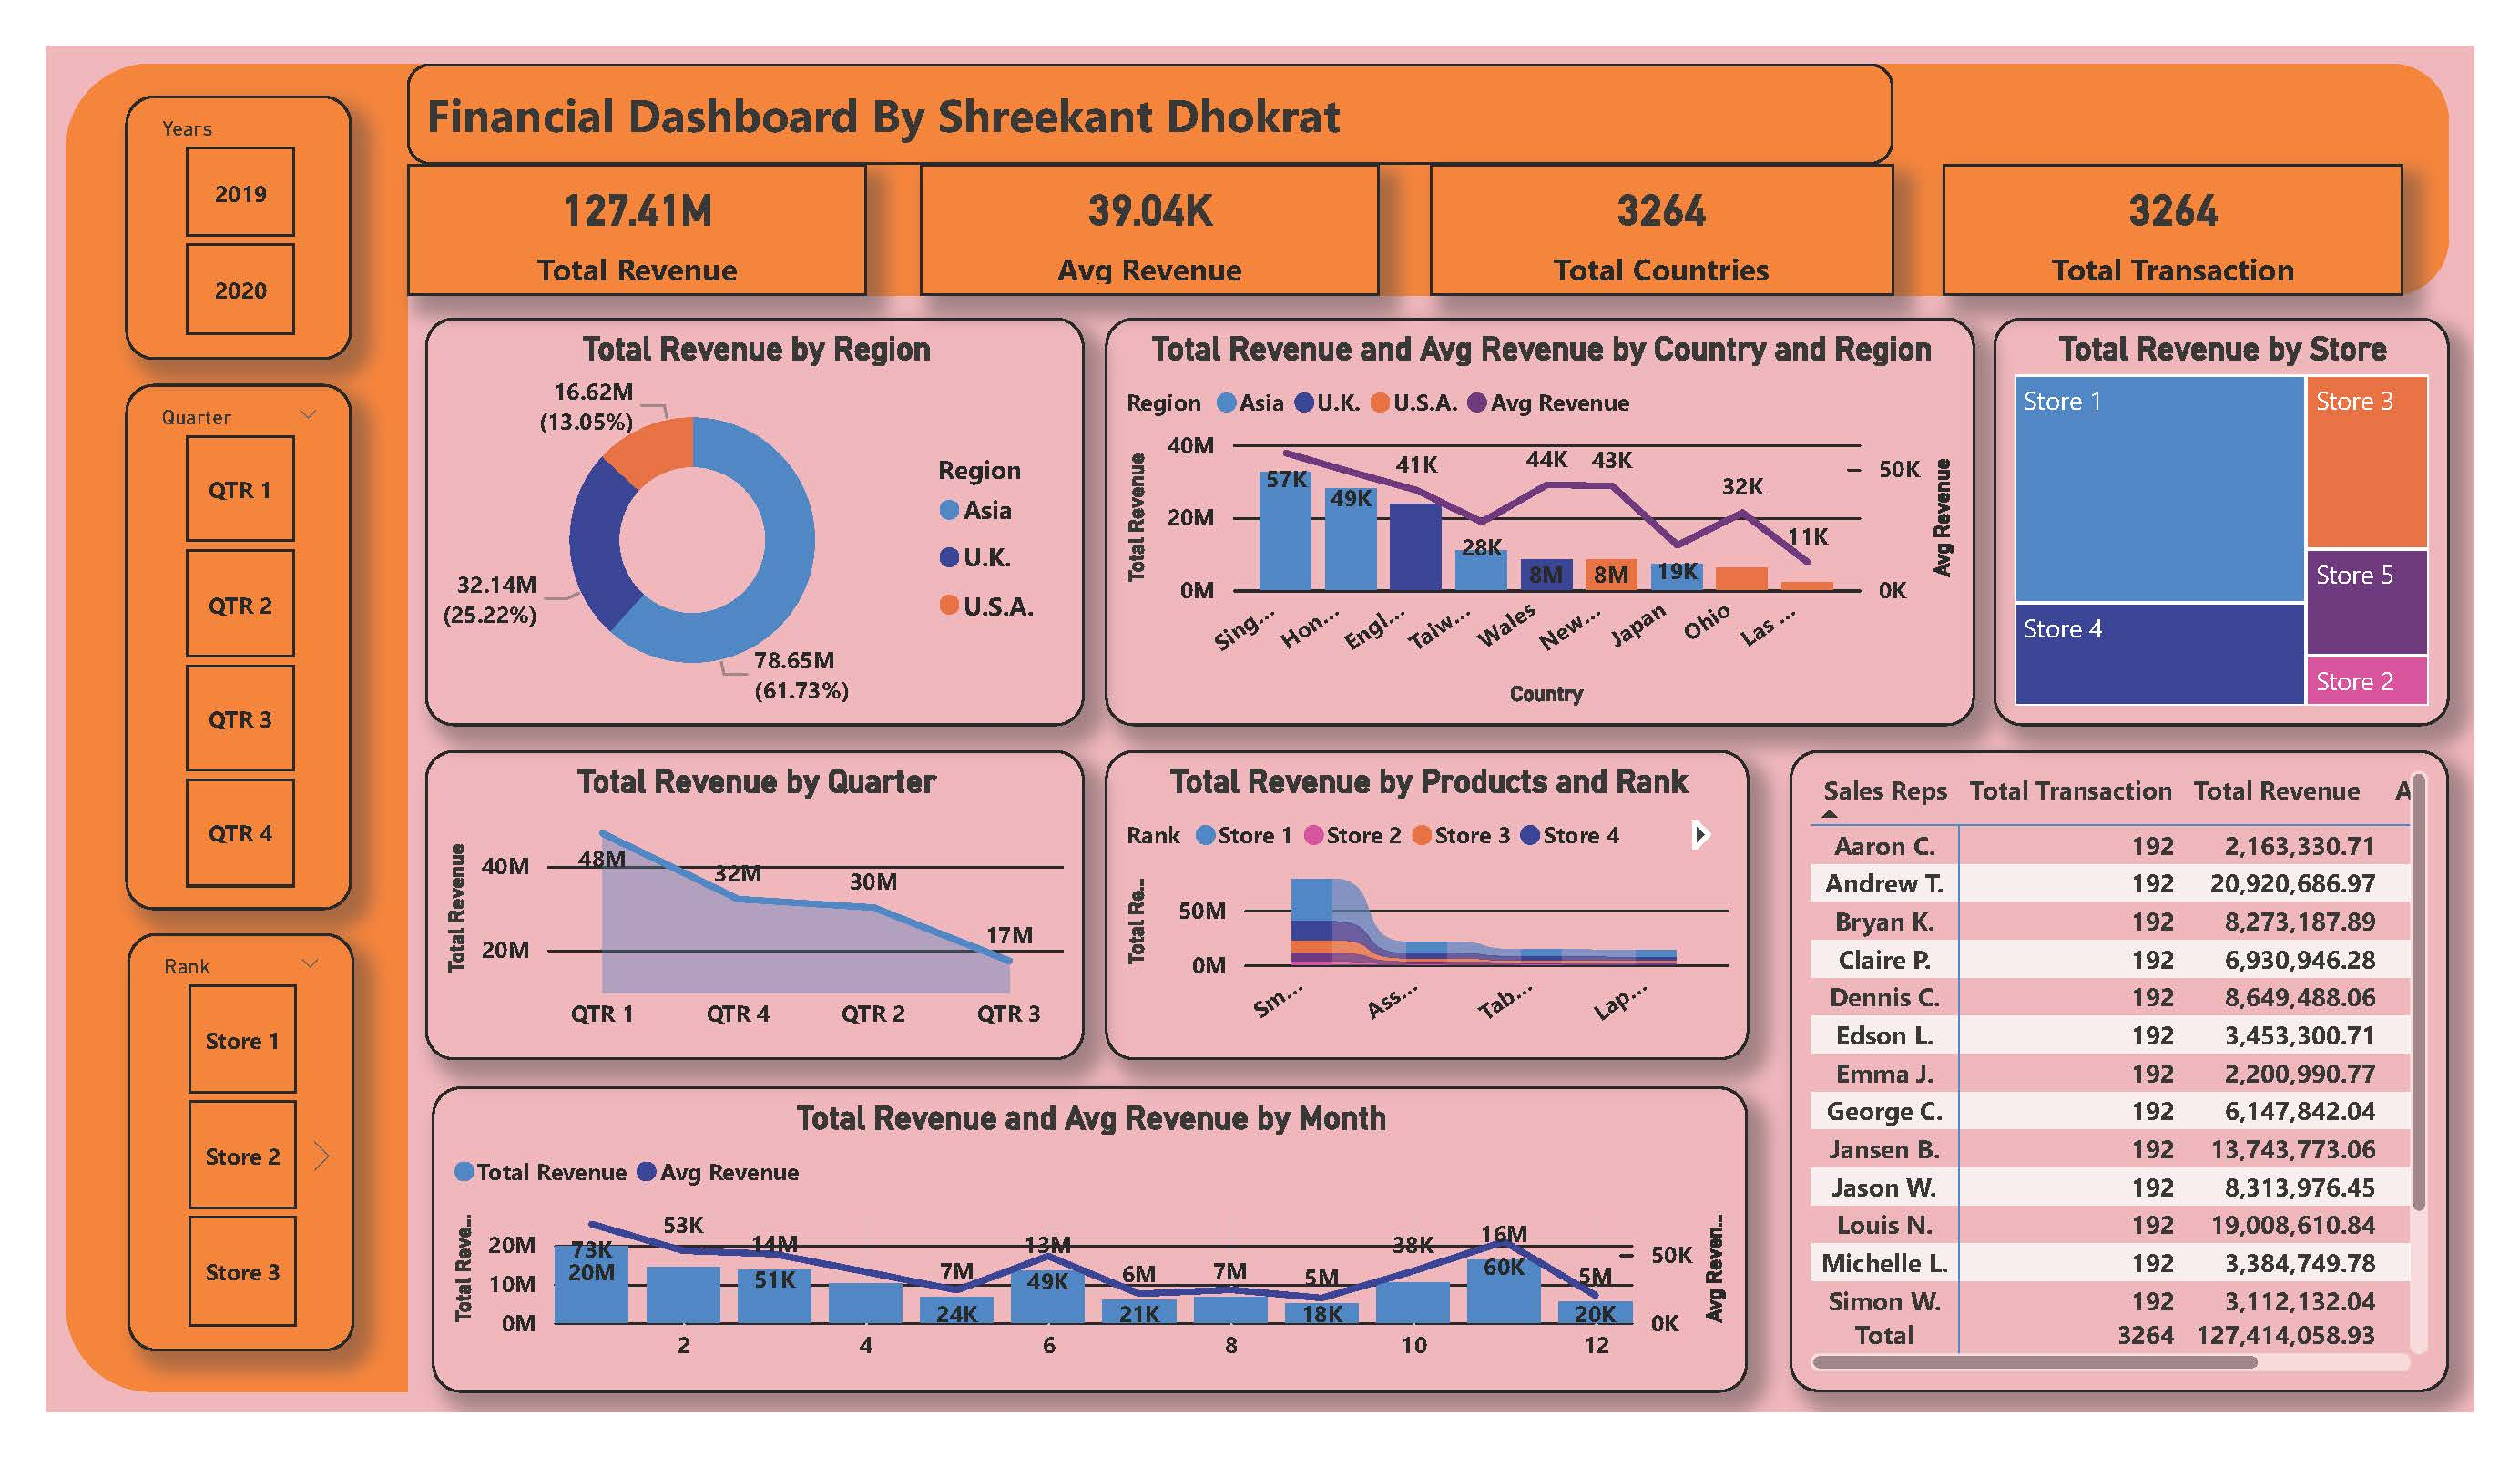

The page's visual inventory and layout, read from the dashboard file:
{"tool":"powerbi","page":{"name":"Page 1","canvas":[1280,720],"ordinal":0},"visuals":[{"type":"shape","box":[11,9.6,179.8,699.8],"z":0},{"type":"shape","box":[190.7,9.6,1075.8,122.1],"z":1000},{"type":"card","fields":{"Values":["Measures (2).Total Revenue"]},"box":[190.6,62.7,242.5,68.8],"z":2000},{"type":"card","fields":{"Values":["Measures (2).Avg Revenue"]},"box":[460.9,62.7,242.5,68.8],"z":3000},{"type":"card","fields":{"Values":["Measures (2).Total Countries"]},"box":[729.9,62.7,243.7,68.8],"z":4000},{"type":"card","fields":{"Values":["Measures (2).Total Transaction"]},"box":[1000.1,62.7,242.5,68.8],"z":5000},{"type":"donutChart","fields":{"Y":["Measures (2).Total Revenue"],"Category":["Sheet1.Region"]},"box":[200.3,144.1,347.2,215.4],"z":6000},{"type":"lineStackedColumnComboChart","fields":{"Category":["Sheet1.Country"],"Y":["Measures (2).Total Revenue"],"Y2":["Measures (2).Avg Revenue"],"Series":["Sheet1.Region"]},"box":[558.5,144.1,458.3,215.4],"z":7000},{"type":"treemap","title":"Total Revenue by Store","fields":{"Values":["Measures (2).Total Revenue"],"Group":["Sheet1.Rank"]},"box":[1026.4,144.1,240.1,215.4],"z":8000},{"type":"areaChart","fields":{"Y":["Measures (2).Total Revenue"],"Category":["Sheet1.Quarter"]},"box":[200.3,371.9,347.2,163.3],"z":9000},{"type":"ribbonChart","fields":{"Category":["Sheet1.Products"],"Y":["Measures (2).Total Revenue"],"Series":["Sheet1.Rank"]},"box":[558.5,371.9,338.9,163.3],"z":10000},{"type":"pivotTable","fields":{"Rows":["Sheet1.Sales Reps"],"Values":["Measures (2).Total Transaction","Measures (2).Total Revenue","Measures (2).Avg Revenue"]},"box":[919.3,371.6,347.5,337.8],"z":11000},{"type":"lineStackedColumnComboChart","fields":{"Category":["Sheet1.Month"],"Y":["Measures (2).Total Revenue"],"Y2":["Measures (2).Avg Revenue"]},"box":[204.5,548.9,693,160.5],"z":12000},{"type":"slicer","fields":{"Values":["Sheet1.Years"]},"box":[42.2,27,119.4,138.7],"z":13000},{"type":"slicer","fields":{"Values":["Sheet1.Quarter"]},"box":[42.2,178.4,119.4,277.5],"z":14000},{"type":"slicer","fields":{"Values":["Sheet1.Rank"]},"box":[43.4,468.6,119.4,219.6],"z":15000},{"type":"textbox","box":[190.6,9.7,783,53.1],"z":15001}]}

Visuals, with their boxes on the page's 1280x720 design canvas (x1, y1, x2, y2). These are canvas units, not pixel positions in the 2520x1457 screenshot, which may show the page scaled, cropped or inside an application window:
shape: <box>11,10,191,709</box>
shape: <box>191,10,1266,132</box>
card - Measures (2).Total Revenue: <box>191,63,433,132</box>
card - Measures (2).Avg Revenue: <box>461,63,703,132</box>
card - Measures (2).Total Countries: <box>730,63,974,132</box>
card - Measures (2).Total Transaction: <box>1000,63,1243,132</box>
donutChart - Measures (2).Total Revenue x Sheet1.Region: <box>200,144,548,360</box>
lineStackedColumnComboChart - Sheet1.Country x Measures (2).Total Revenue: <box>558,144,1017,360</box>
"Total Revenue by Store" treemap: <box>1026,144,1266,360</box>
areaChart - Measures (2).Total Revenue x Sheet1.Quarter: <box>200,372,548,535</box>
ribbonChart - Sheet1.Products x Measures (2).Total Revenue: <box>558,372,897,535</box>
pivotTable - Sheet1.Sales Reps x Measures (2).Total Transaction: <box>919,372,1267,709</box>
lineStackedColumnComboChart - Sheet1.Month x Measures (2).Total Revenue: <box>204,549,898,709</box>
slicer - Sheet1.Years: <box>42,27,162,166</box>
slicer - Sheet1.Quarter: <box>42,178,162,456</box>
slicer - Sheet1.Rank: <box>43,469,163,688</box>
textbox: <box>191,10,974,63</box>
